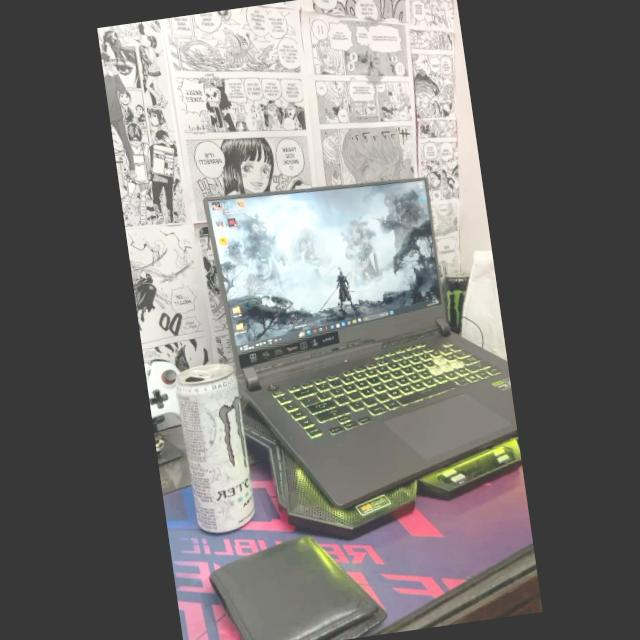laptop: (204, 176, 518, 520), (376, 425, 378, 427)
